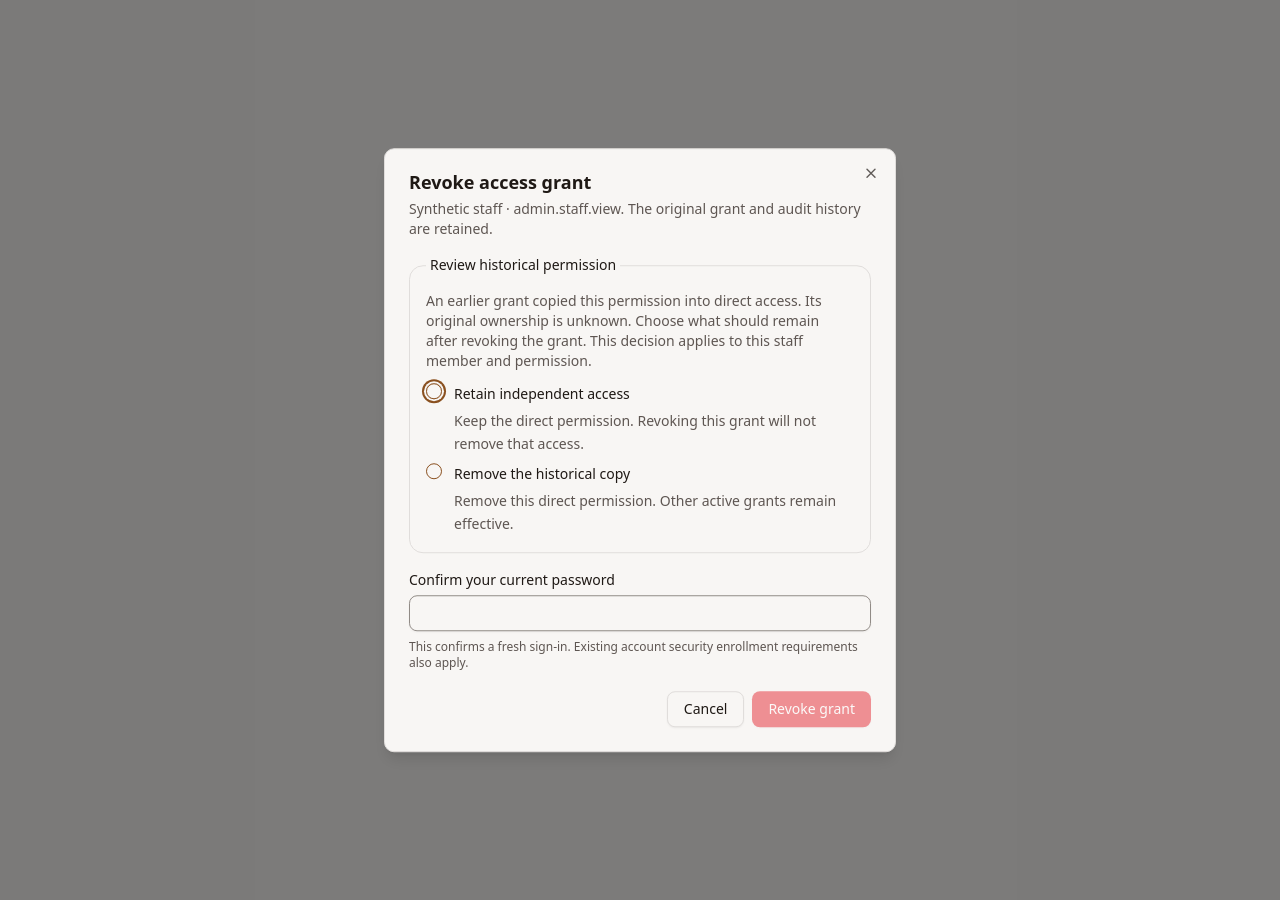
it: managed access revocation › requires a historical choice and clears the password after a definite denial
The width and height of the screenshot is (1280, 900).
Type "Synthetic password " into the password field labelled "Confirm your current password" at (640, 613), box [409,595,871,631]
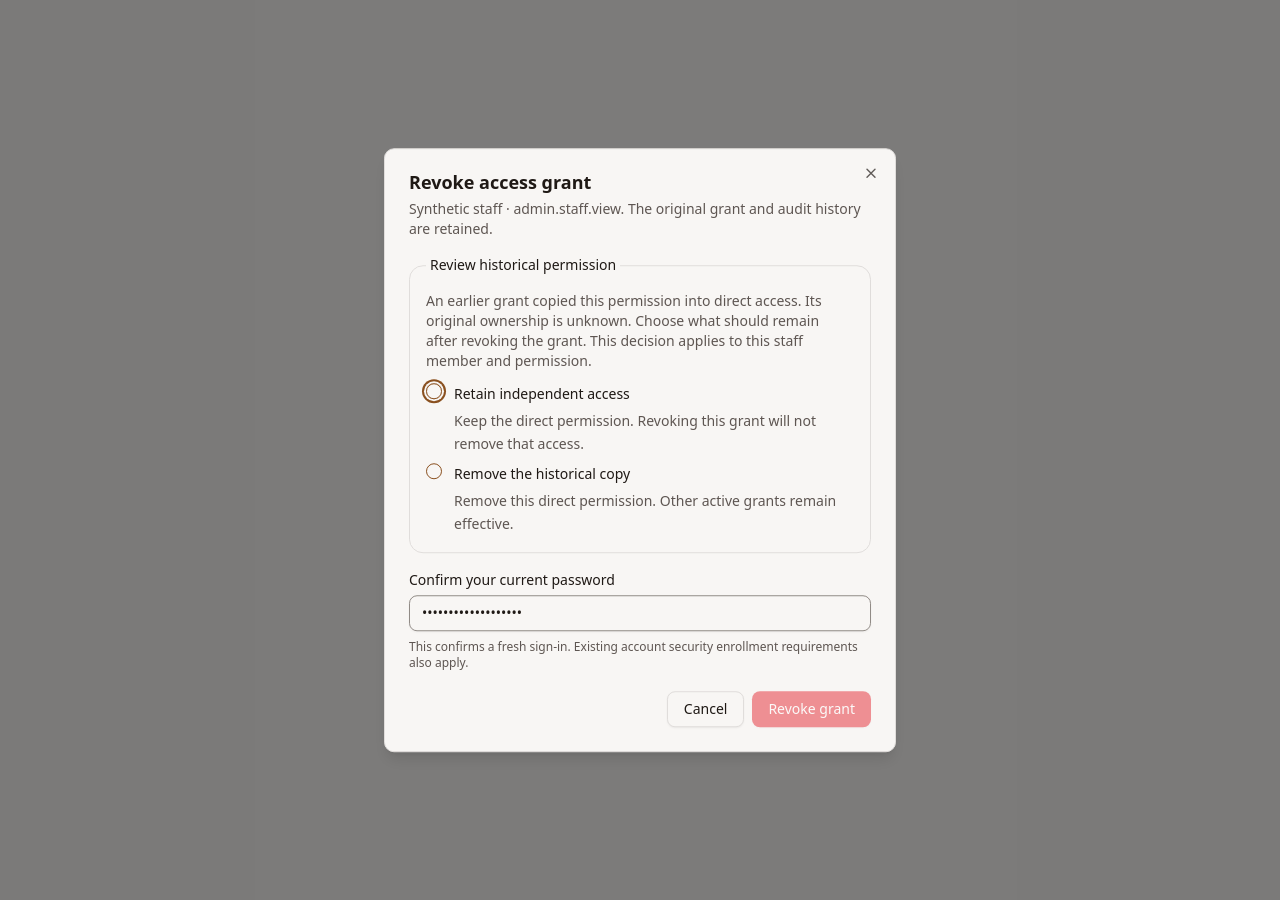
Expected: the button "Revoke grant" is disabled, [752,691,871,727]
Click the radio button named "Remove the historical copy" next to "Remove the historical copy" at (434, 472), box [426,464,442,480]
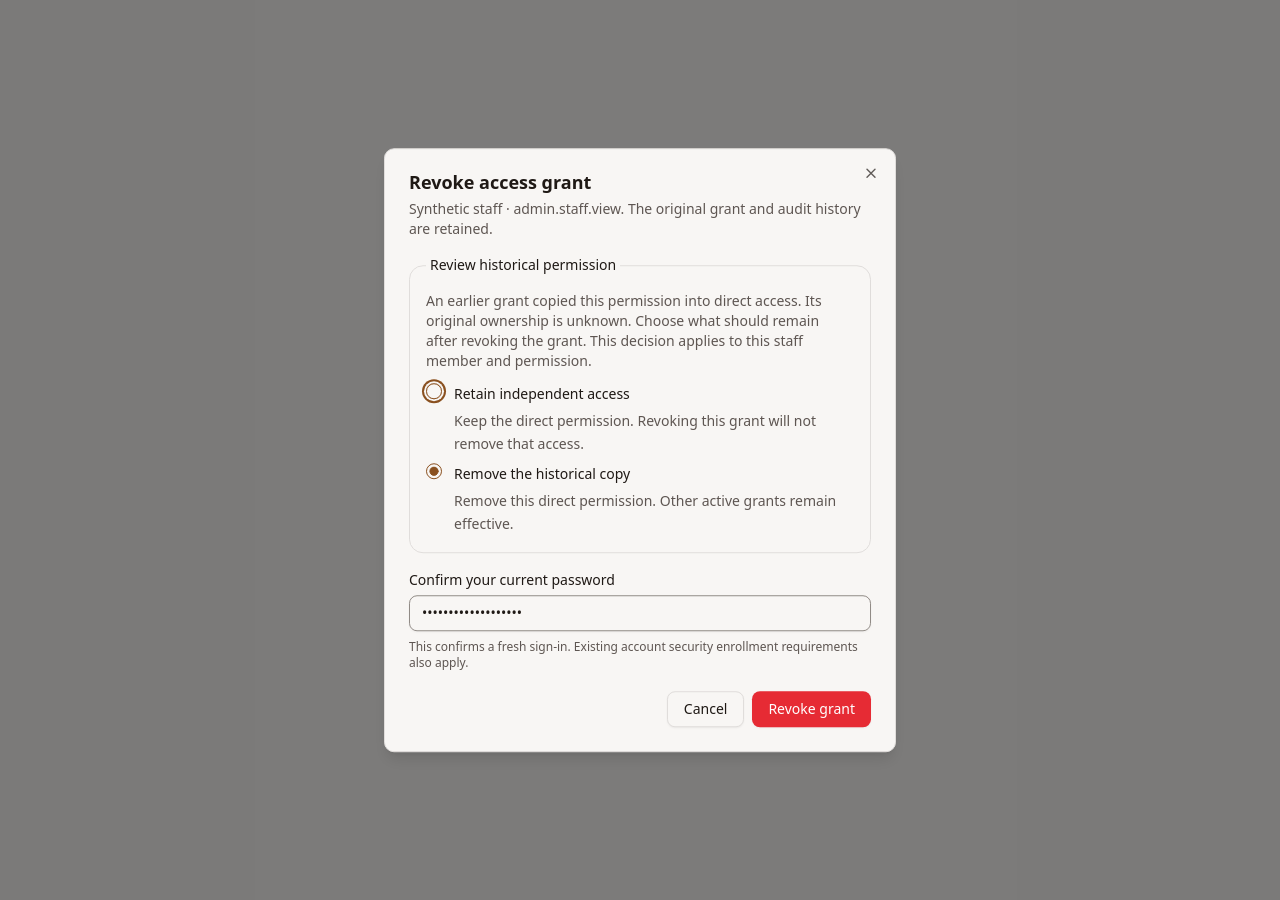
Click the button "Revoke grant" at (812, 709), box [752,691,871,727]
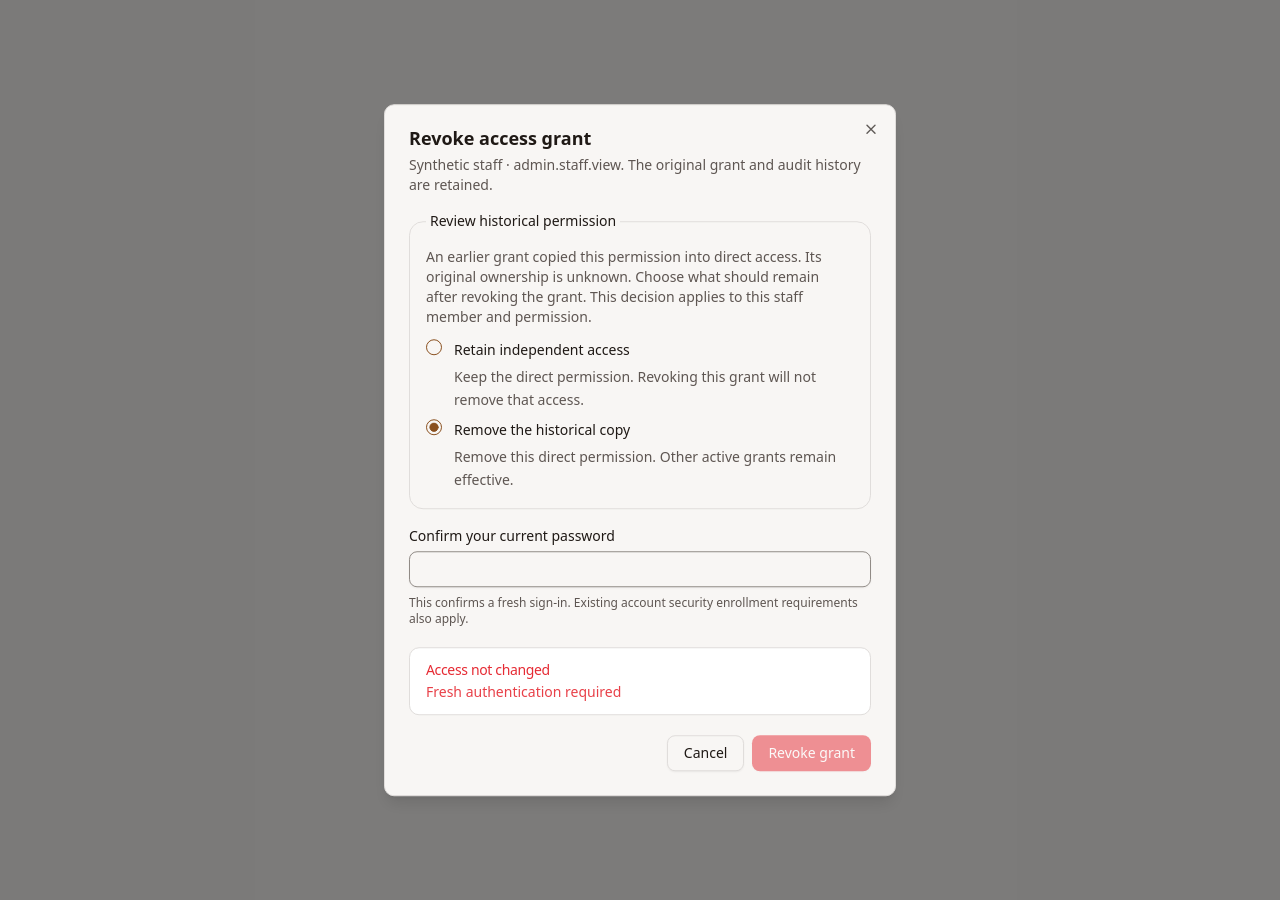
Expected: the text "Fresh authentication required" is shown, [426,682,621,701]
Expected: the password field labelled "Confirm your current password" is empty, [409,551,871,587]
